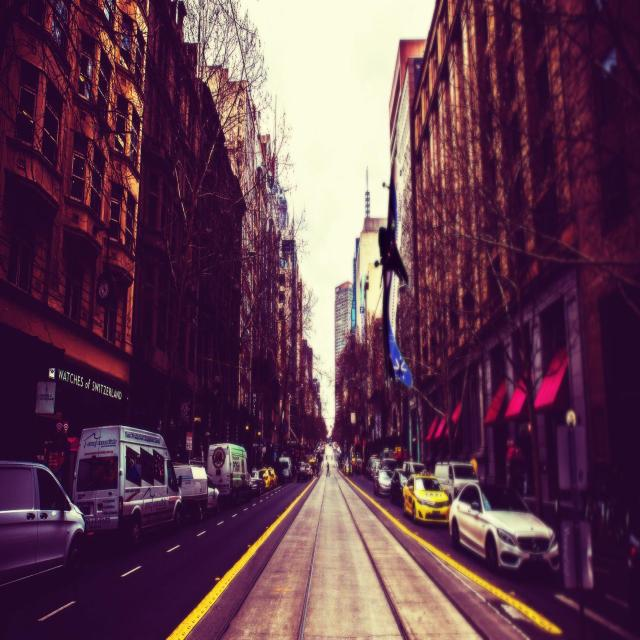airplane: (372, 173, 414, 390)
